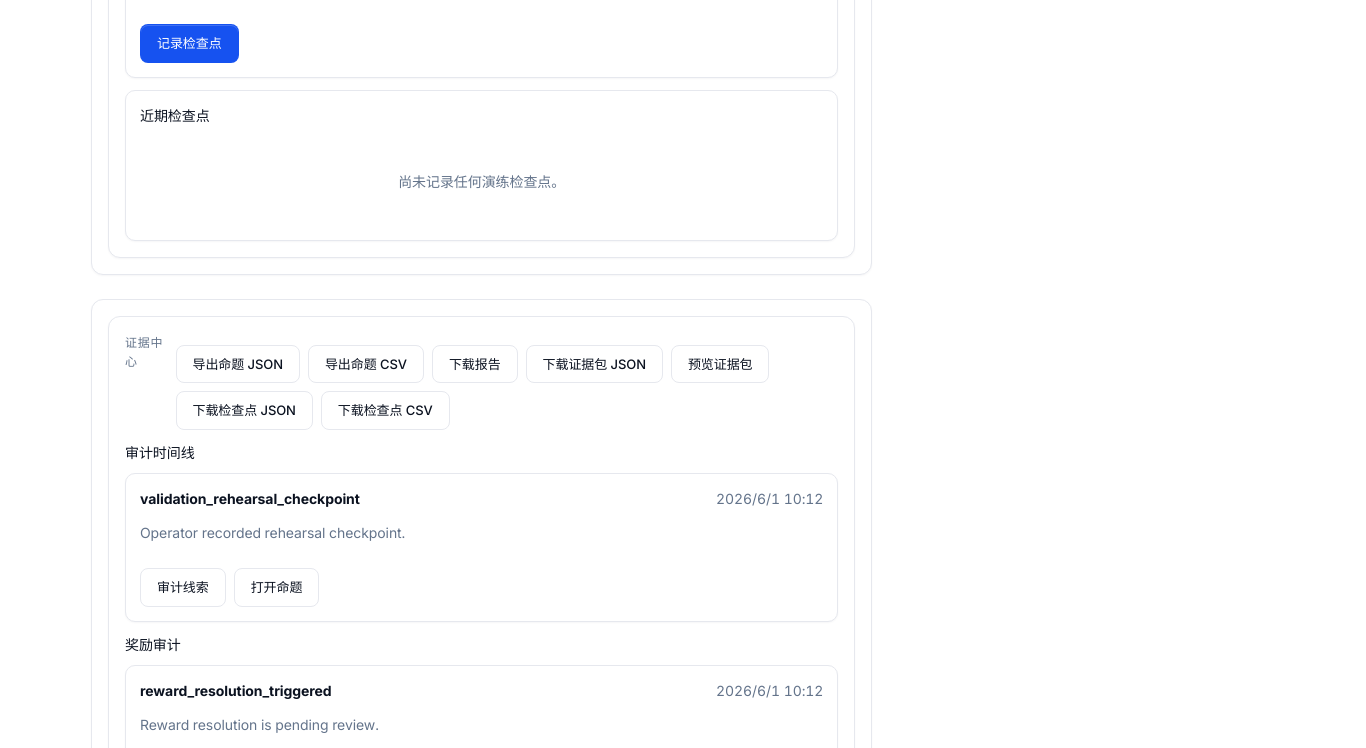
Test: OpsConsolePage › renders an inline evidence bundle preview from proposition detail
This screenshot has width=1366, height=748.
(page scrolled)
Expected: the text "证据中心" is shown, [125,333,164,371]
Click the button "预览证据包" at x=720, y=364, box [671,345,770,384]
(page scrolled)
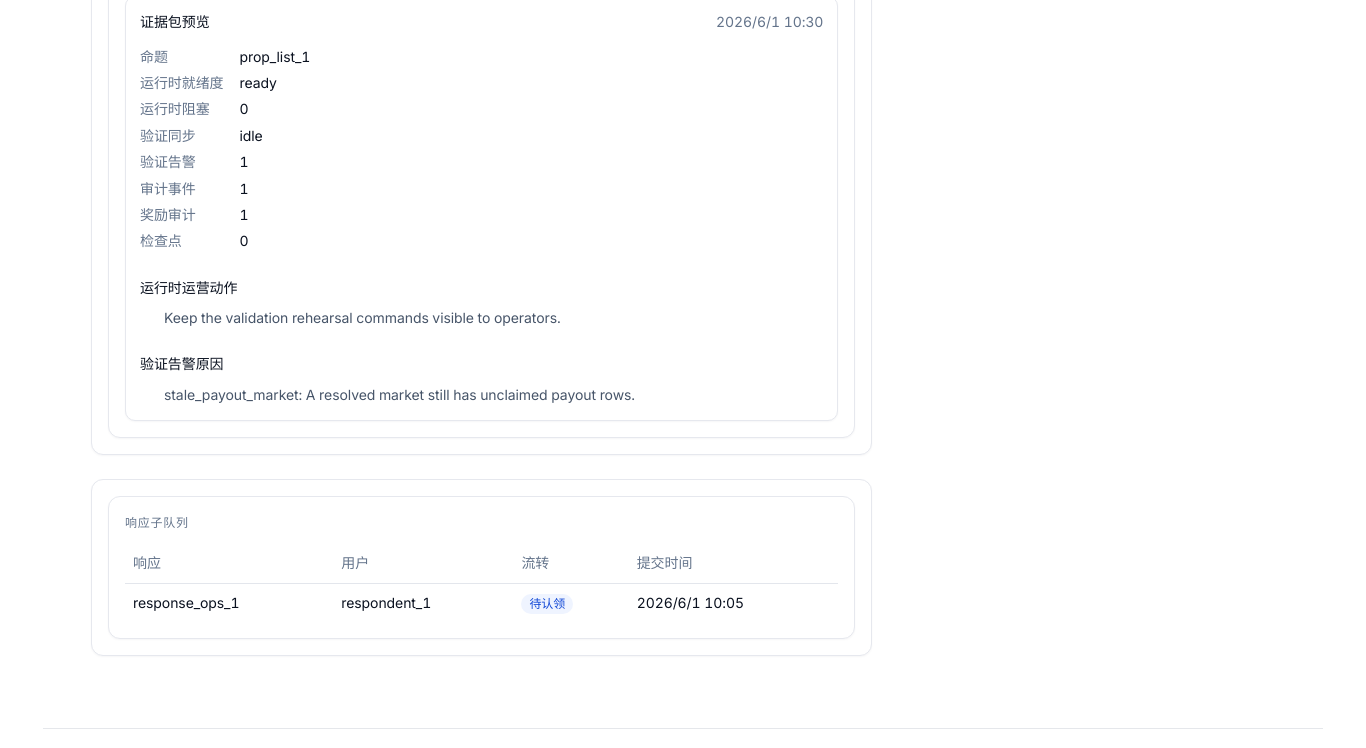
Expected: the text "证据包预览" is shown, [140,11,210,34]
Expected: the text "运行时就绪度" is shown, [140,72,224,94]
Expected: the text "验证告警原因" is shown, [140,356,224,372]
